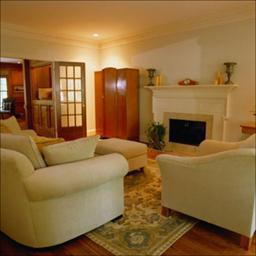Armario: (93, 69, 138, 138)
Matera: (144, 123, 168, 158)
Puerta: (53, 61, 87, 137)
